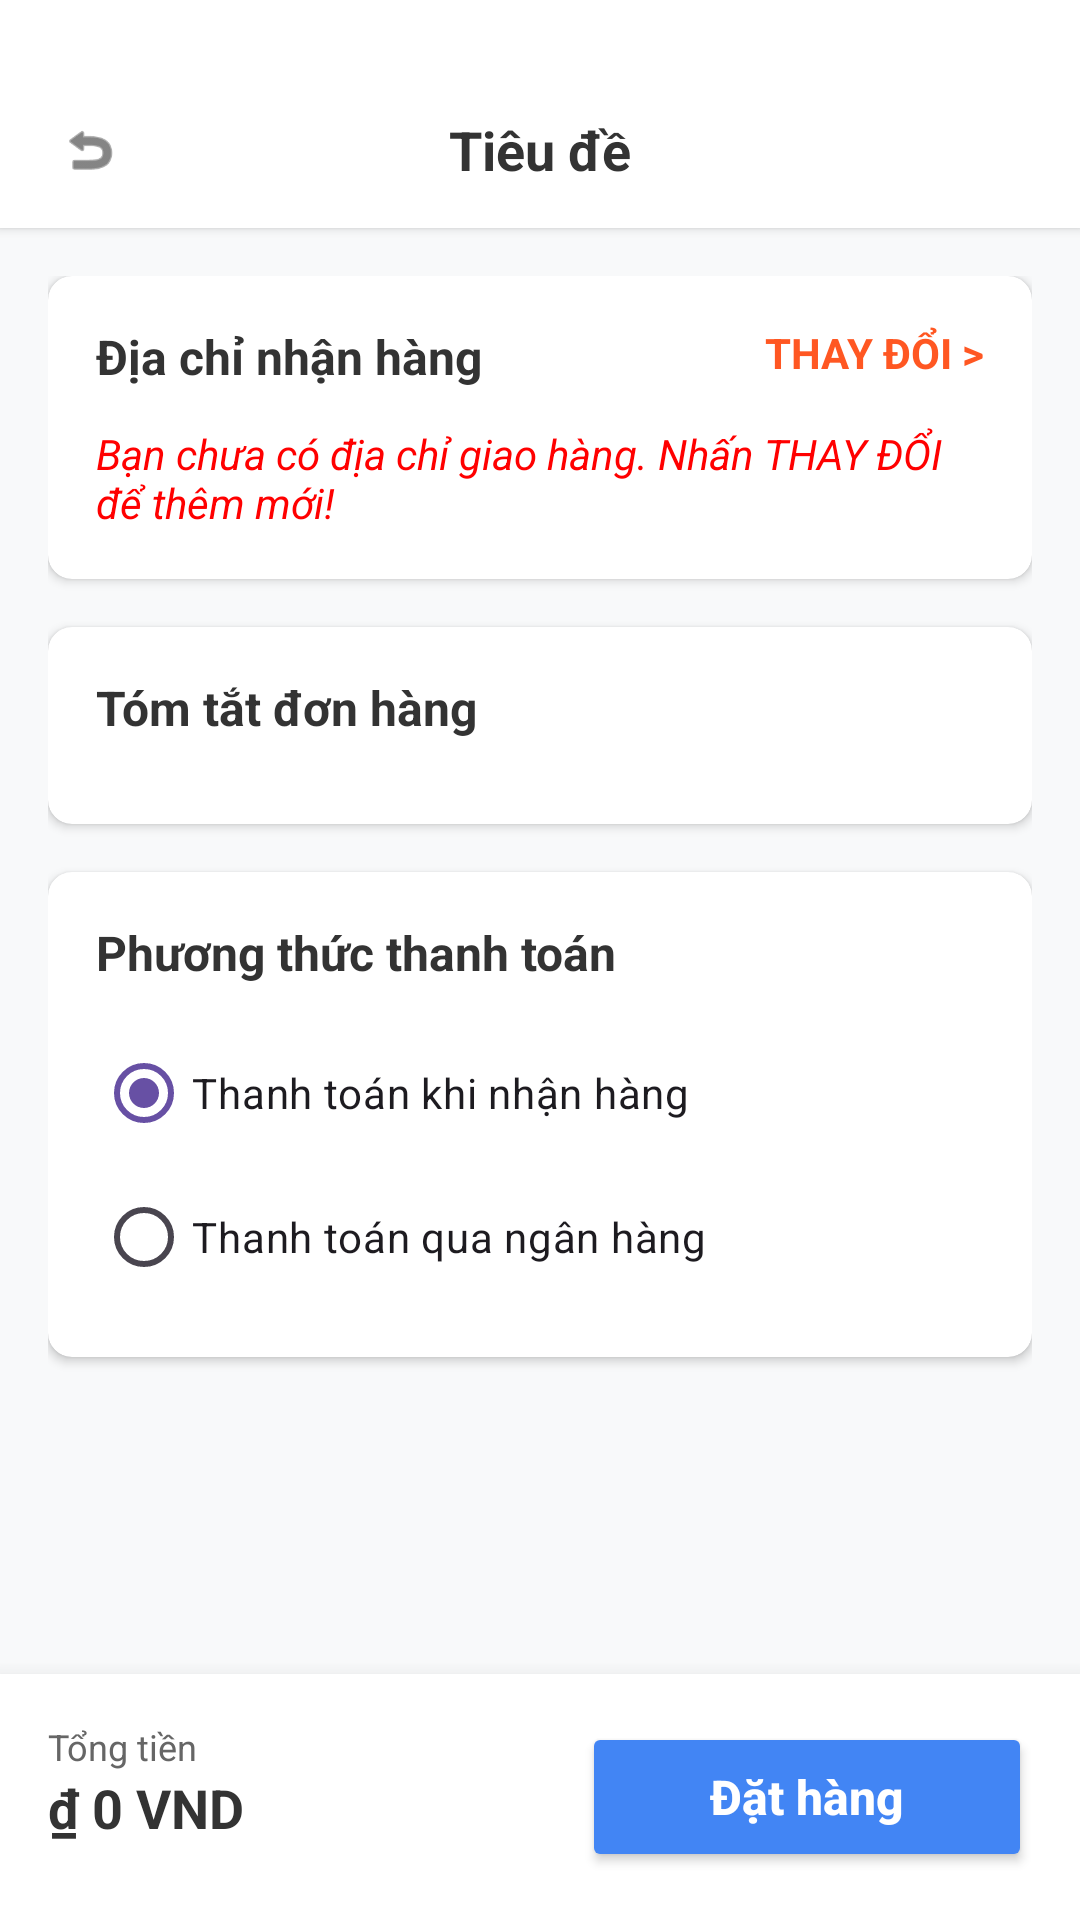

Screen size 1080 × 1920. Icon name, then its center in pixels as (x=x, y=y):
revert: (x=90, y=150)
